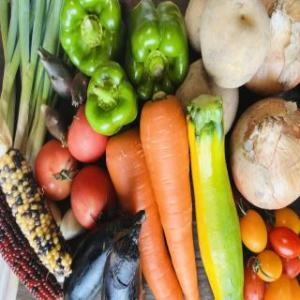carrot: (106, 130, 186, 300), (140, 92, 202, 300)
eggplant: (64, 210, 144, 300), (104, 209, 144, 299), (102, 224, 142, 300)
onion: (228, 96, 300, 212), (236, 0, 300, 100)
